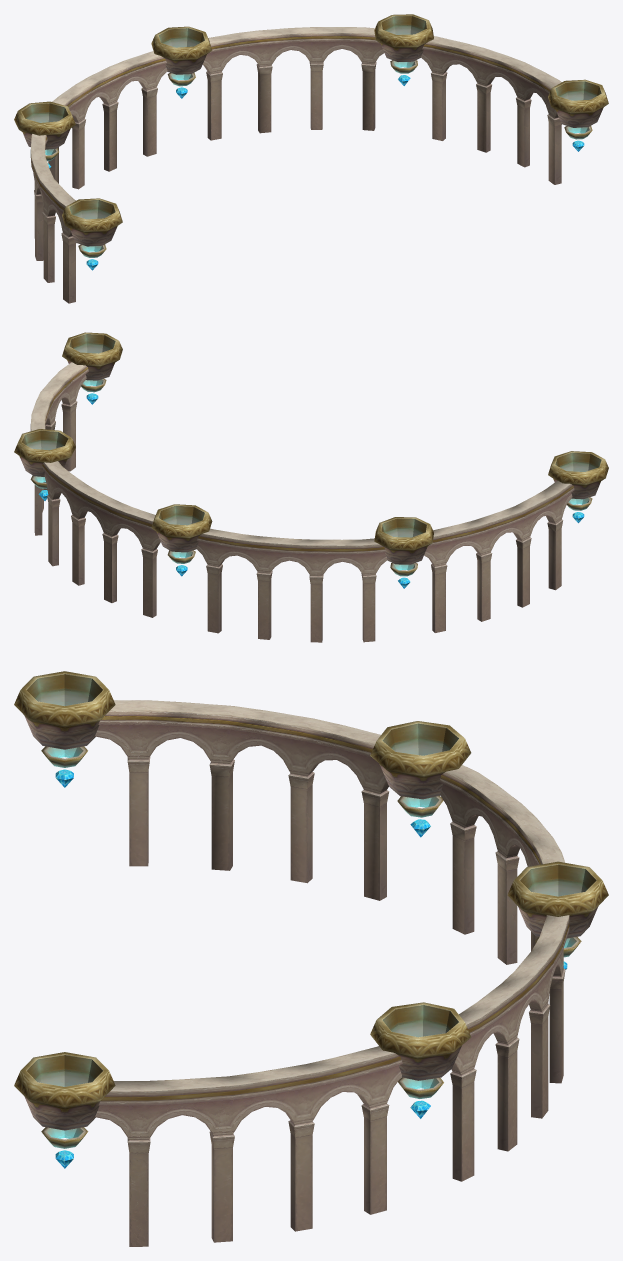
File: stone_16.FBX
3 renders of one model, top to bottom at view 1: azimuth 30°, elevation 25°; view 2: azimuth 150°, elevation 25°; view 3: azimuth 270°, elevation 25°, orthographic. The views are drawn at different scales.
Visible parts, largest first — view 1: stone_16; view 2: stone_16; view 3: stone_16.
Boxes of the visible parts, x1=… form: stone_16: x1=14, y1=14, x2=608, y2=303; stone_16: x1=14, y1=332, x2=608, y2=642; stone_16: x1=14, y1=671, x2=608, y2=1246.
Bounding box in the file's own units: 2570 × 490 × 1525.
